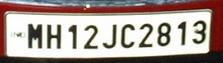1: (67, 23, 78, 48), (176, 20, 187, 45)
2: (81, 22, 98, 49), (137, 22, 153, 47)
3: (190, 18, 205, 43)
8: (156, 21, 171, 46)
C: (119, 22, 135, 48)
H: (45, 23, 61, 48)
J: (100, 22, 116, 48)
M: (26, 21, 42, 48)
